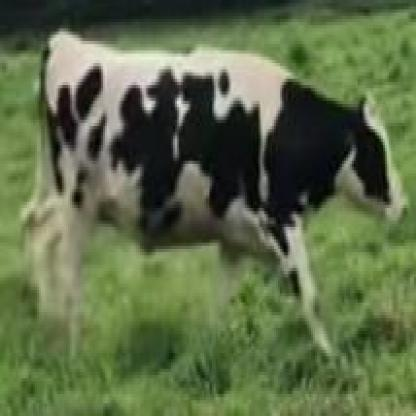cow: (19, 30, 408, 358)
